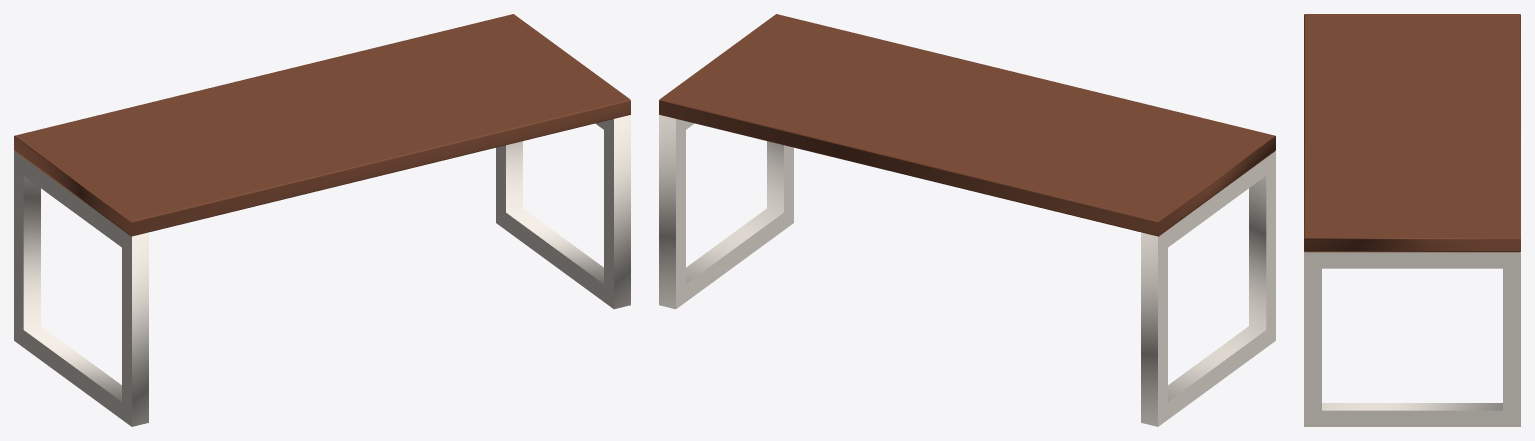
The model's file is Office Desks.glb.
The picture shows the model from 3 angles, left to right: view 1: azimuth 30°, elevation 25°; view 2: azimuth 150°, elevation 25°; view 3: azimuth 270°, elevation 25°; orthographic projection. The views are drawn at different scales.
Visible parts, largest first — view 1: Root; view 2: Root; view 3: Root.
Boxes of the visible parts, left/top/right/bottom form: Root: left=14, top=14, right=630, bottom=426; Root: left=659, top=14, right=1275, bottom=426; Root: left=1304, top=14, right=1520, bottom=426.
Size of the model in its own units: 2.2 by 0.865 by 0.9.
